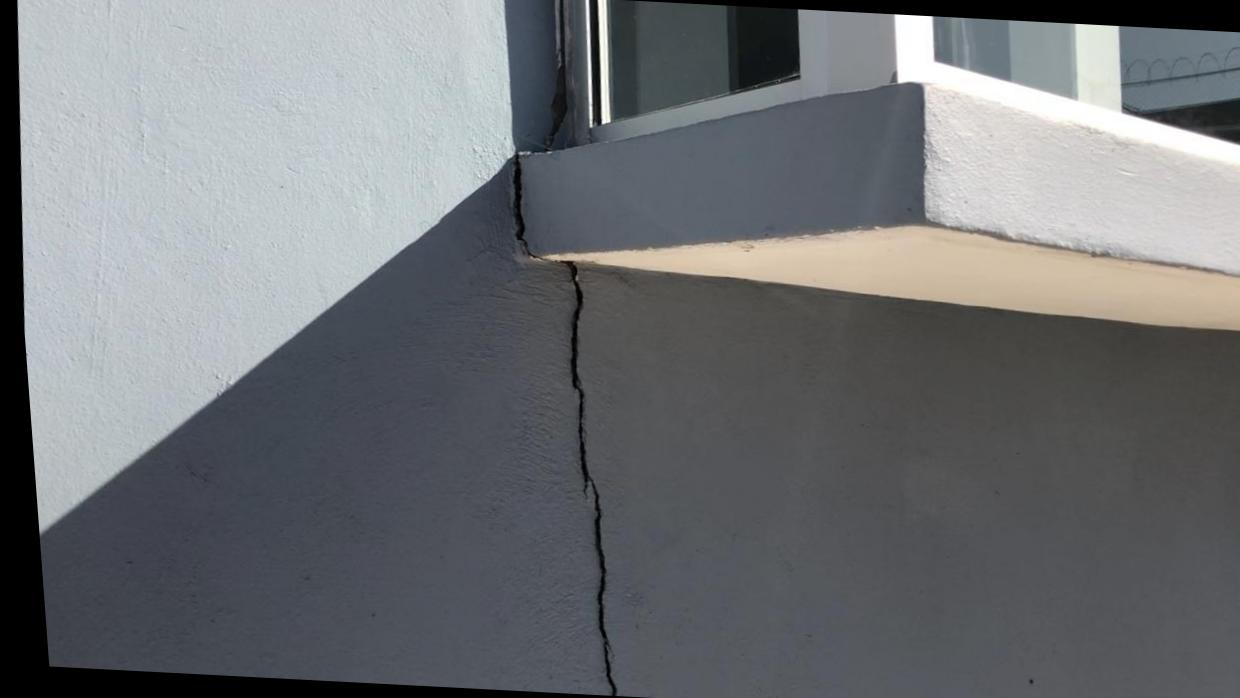crack: (509, 154, 607, 696)
